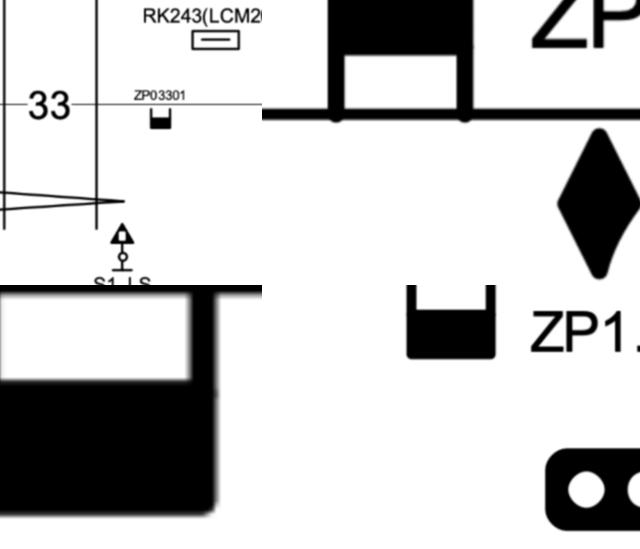mainsignal: (526, 426, 640, 539)
radzaehler: (0, 285, 235, 528), (324, 0, 482, 134), (402, 285, 504, 369), (146, 102, 182, 138)
tracknumber: (20, 80, 74, 124)
